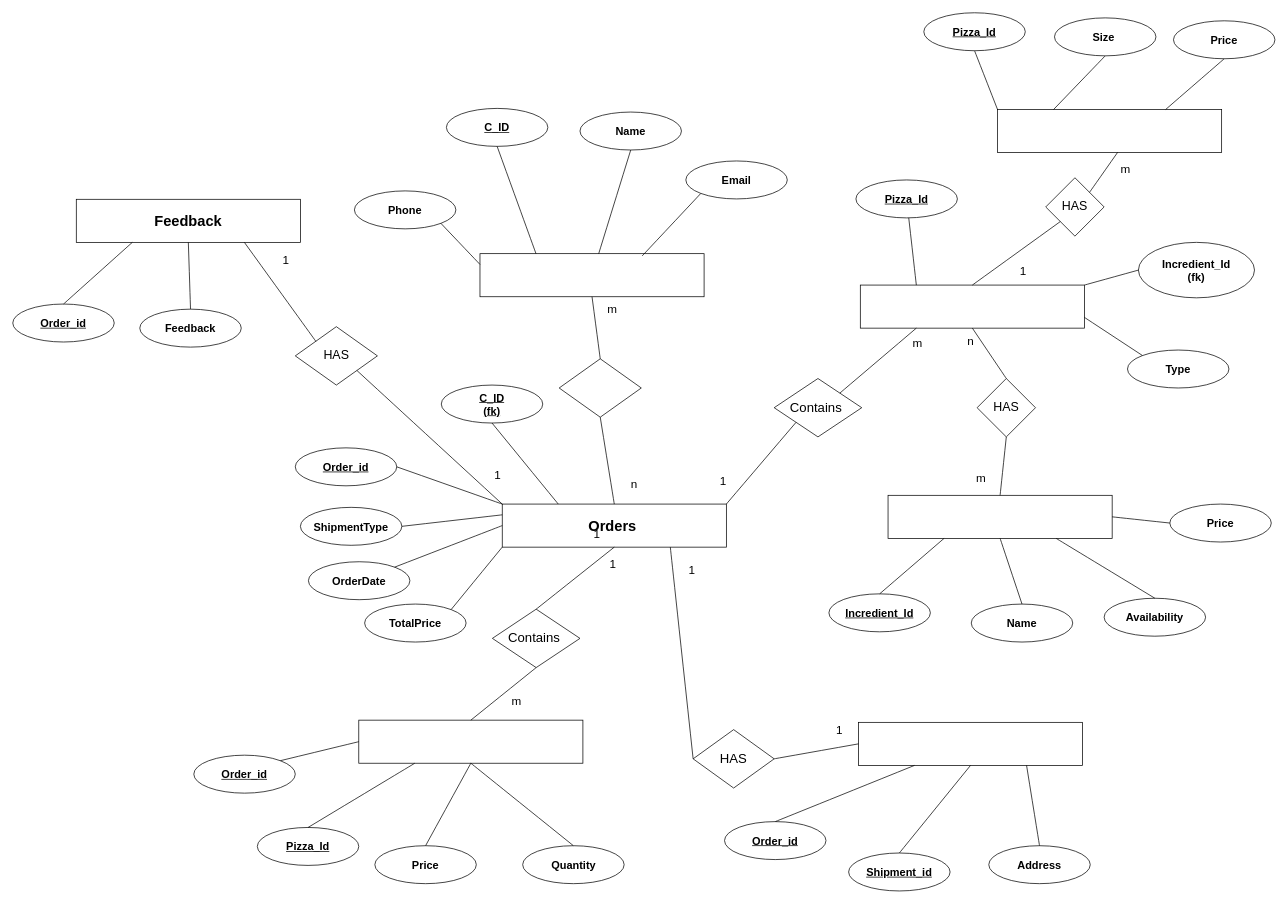
Some shapes in this 1288 by 904 pixel diagram are drawn without their labels. The shapes that lost their labels are listed below. From the top down, each one's centre as x and y in pixels, then its label:
the point at 1109,131: Sizes
the point at 591,275: Customer
the point at 972,306: Pizzas
the point at 599,387: places
the point at 999,516: Incredients
the point at 470,741: Order Details
the point at 970,743: Shipment
